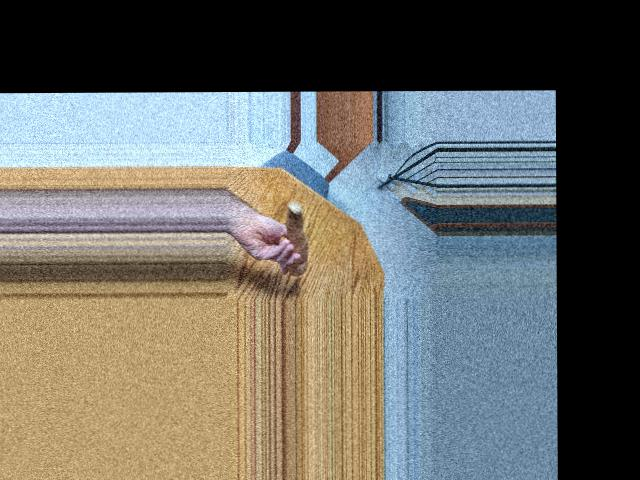sweet_potato: (279, 200, 308, 273)
